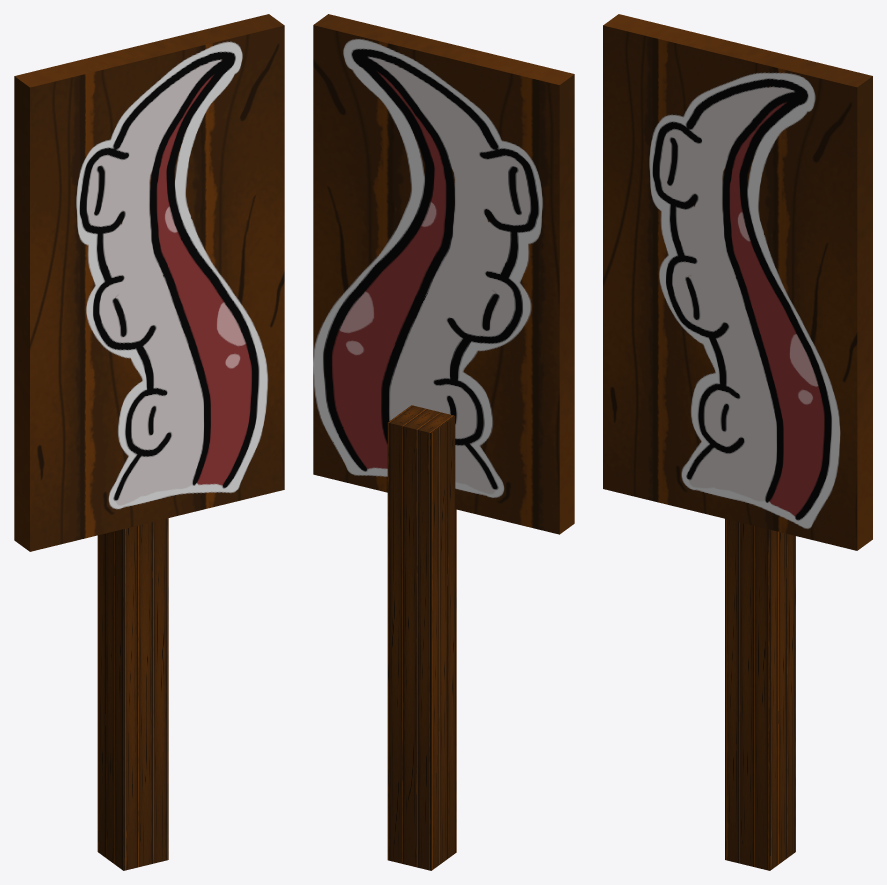
File: Tentacle_Left_Idle_1.fbx
3 views of the same model, side by side, from view 1: azimuth 30°, elevation 25°; view 2: azimuth 150°, elevation 25°; view 3: azimuth 330°, elevation 25° (orthographic). The views are drawn at different scales.
Parts seen in each view (by area): view 1: Octopus_Balk12; view 2: Octopus_Balk12; view 3: Octopus_Balk12.
Boxes of the visible parts, left/top/right/bottom form: Octopus_Balk12: left=14, top=14, right=284, bottom=870; Octopus_Balk12: left=313, top=14, right=574, bottom=870; Octopus_Balk12: left=603, top=14, right=872, bottom=870.
Bounding box in the file's own units: 15.82 × 48.69 × 4.34.
Materials: 2 (2 with a texture image).
